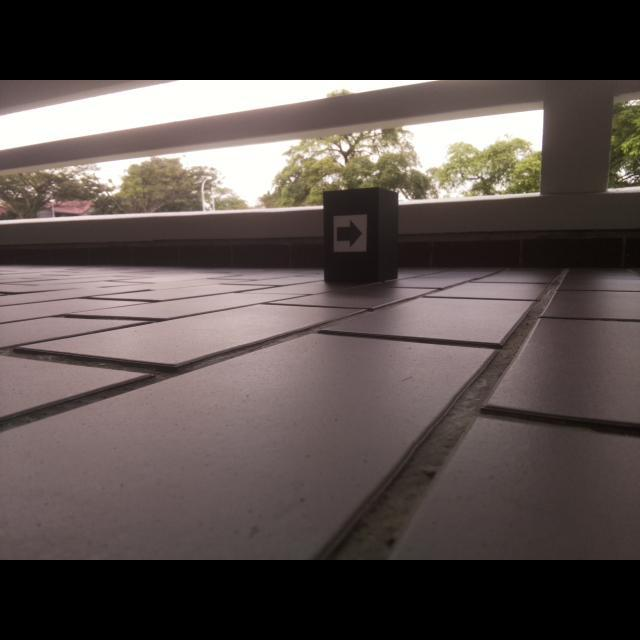RIGHT: (336, 219, 363, 249)
